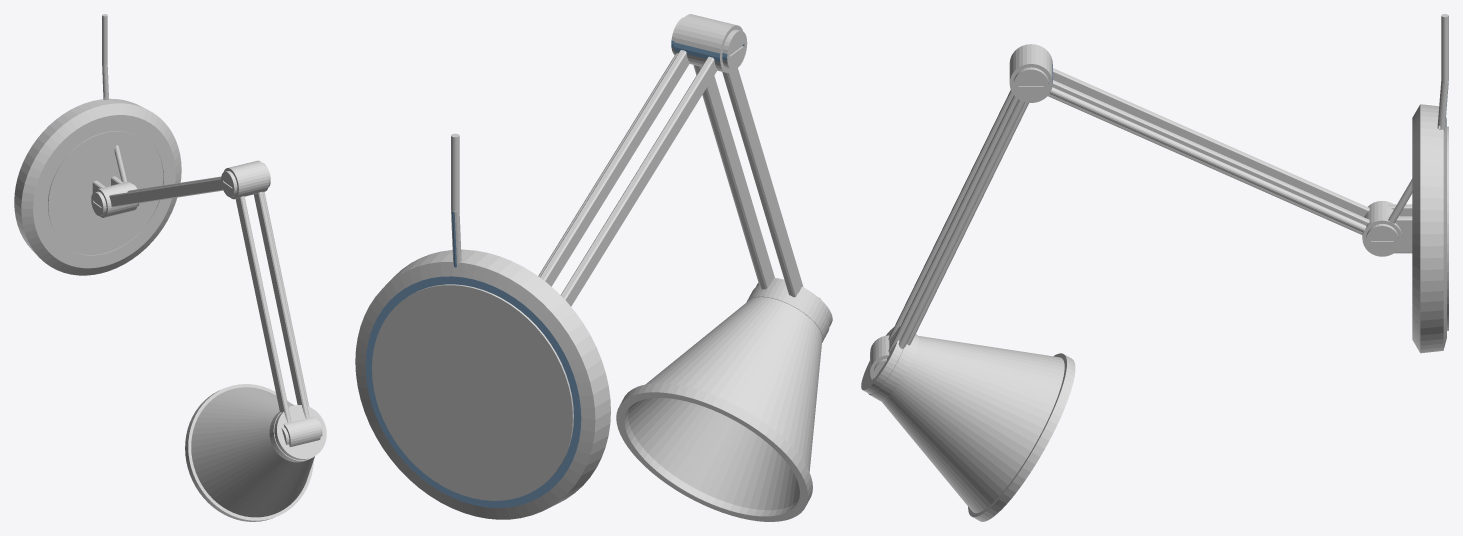
Rendered from desk_lamp.glb.
3 renders of one model, left to right at view 1: azimuth 30°, elevation 25°; view 2: azimuth 150°, elevation 25°; view 3: azimuth 270°, elevation 25°, orthographic. The views are drawn at different scales.
Visible parts, largest first — view 1: geometry_0; view 2: geometry_0; view 3: geometry_0.
Part boxes in pixels (x1,y1,x2,y2): geometry_0: (14,14,326,521); geometry_0: (355,14,832,521); geometry_0: (861,14,1448,521).
Size of the model in its own units: 150 by 335 by 354.
